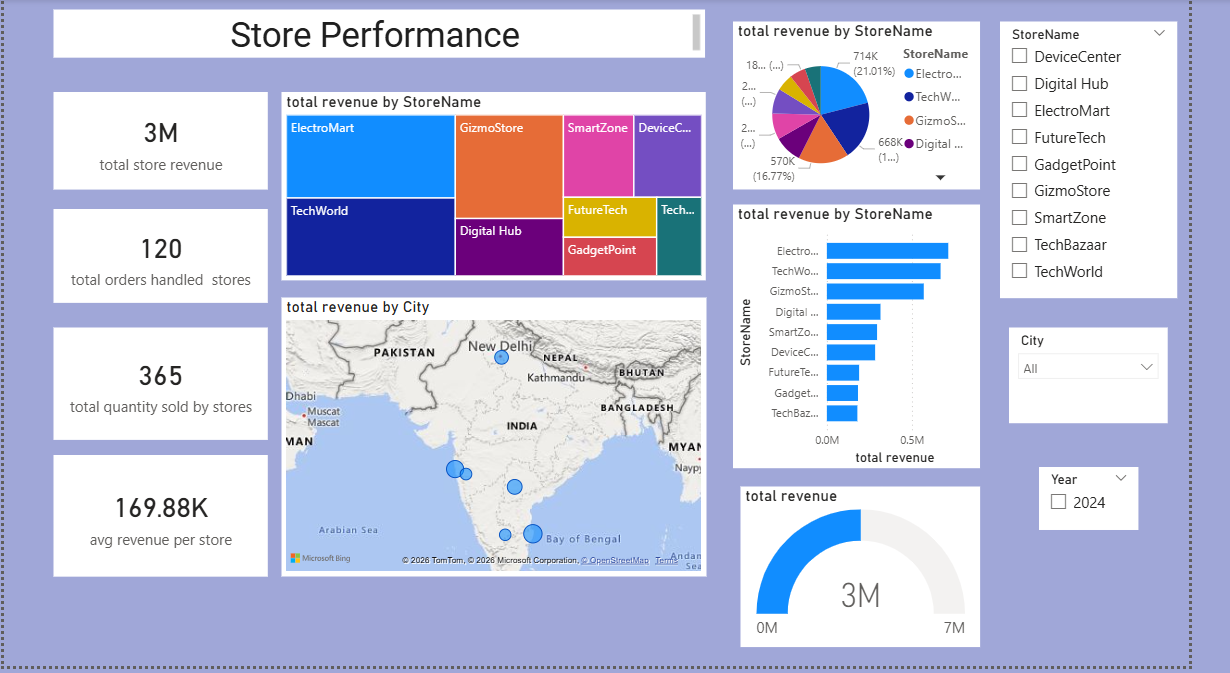

This screenshot's page, from the dashboard's own definition file:
{"tool":"powerbi","page":{"name":"Page 4","canvas":[1280,720],"ordinal":3},"visuals":[{"type":"slicer","fields":{"Values":["stores.StoreName"]},"box":[1075.5,23.9,191.2,298.8],"z":0},{"type":"slicer","fields":{"Values":["stores.City"]},"box":[1085.5,354.5,171.3,103.6],"z":1000},{"type":"slicer","fields":{"Values":["date_dim.Year"]},"box":[1117.4,505.9,107.6,67.7],"z":2000},{"type":"card","fields":{"Values":["fact_sales.total store revenue"]},"box":[53.8,99.6,231,105.6],"z":3000},{"type":"card","fields":{"Values":["fact_sales.total orders by stores"]},"box":[53.8,227.1,231,101.6],"z":4000},{"type":"card","fields":{"Values":["fact_sales.total quantity sold by stores"]},"box":[53.8,354.5,231,121.5],"z":5000},{"type":"card","fields":{"Values":["fact_sales.avg revenue per store"]},"box":[53.8,492,231,131.5],"z":6000},{"type":"treemap","fields":{"Group":["stores.StoreName"],"Values":["fact_sales.total revenue"]},"box":[298.8,99.6,458.1,203.2],"z":7000},{"type":"map","fields":{"Category":["customers.City"],"Size":["fact_sales.total revenue"]},"box":[298.8,322.7,458.1,300.8],"z":8000},{"type":"pieChart","fields":{"Y":["fact_sales.total revenue"],"Category":["stores.StoreName"]},"box":[786.7,23.9,266.9,181.2],"z":9000},{"type":"clusteredBarChart","fields":{"Category":["stores.StoreName"],"Y":["fact_sales.total revenue"]},"box":[786.7,221.1,266.9,284.8],"z":10000},{"type":"gauge","fields":{"Y":["fact_sales.total revenue"]},"box":[794.7,525.8,258.9,173.3],"z":11000},{"type":"textbox","box":[53.8,12,703.1,51.8],"z":12000}]}

Visuals, with their boxes in screenshot pixels (x1, y1, x2, y2), scaled from the page's 1280x720 canvas onto the 1230x673 screenshot:
slicer - stores.StoreName: {"x1": 1033, "y1": 22, "x2": 1217, "y2": 302}
slicer - stores.City: {"x1": 1043, "y1": 331, "x2": 1208, "y2": 428}
slicer - date_dim.Year: {"x1": 1074, "y1": 473, "x2": 1177, "y2": 536}
card - fact_sales.total store revenue: {"x1": 52, "y1": 93, "x2": 274, "y2": 192}
card - fact_sales.total orders by stores: {"x1": 52, "y1": 212, "x2": 274, "y2": 307}
card - fact_sales.total quantity sold by stores: {"x1": 52, "y1": 331, "x2": 274, "y2": 445}
card - fact_sales.avg revenue per store: {"x1": 52, "y1": 460, "x2": 274, "y2": 583}
treemap - stores.StoreName x fact_sales.total revenue: {"x1": 287, "y1": 93, "x2": 727, "y2": 283}
map - customers.City x fact_sales.total revenue: {"x1": 287, "y1": 302, "x2": 727, "y2": 583}
pieChart - fact_sales.total revenue x stores.StoreName: {"x1": 756, "y1": 22, "x2": 1012, "y2": 192}
clusteredBarChart - stores.StoreName x fact_sales.total revenue: {"x1": 756, "y1": 207, "x2": 1012, "y2": 473}
gauge - fact_sales.total revenue: {"x1": 764, "y1": 491, "x2": 1012, "y2": 653}
textbox: {"x1": 52, "y1": 11, "x2": 727, "y2": 60}
